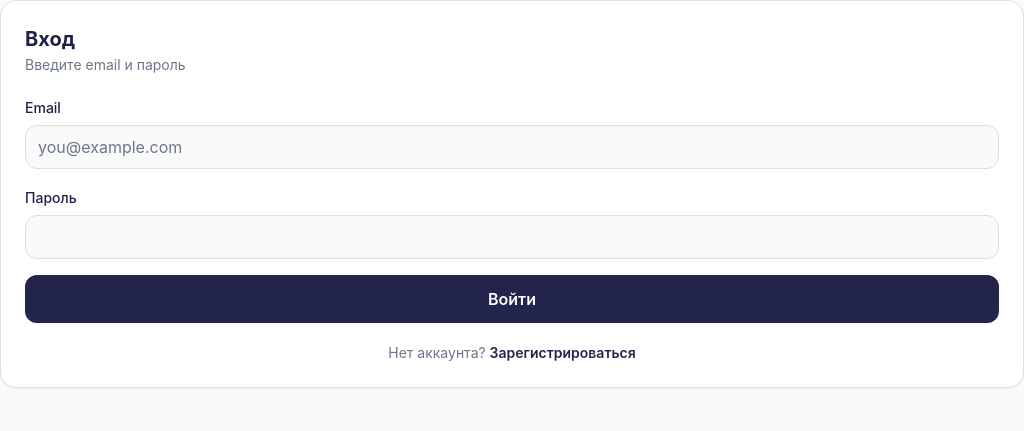
Test case: LoginForm › shows validation when email is invalid
Type "not-an-email" into the field labelled "Email" at (512, 147), box [25,125,999,169]
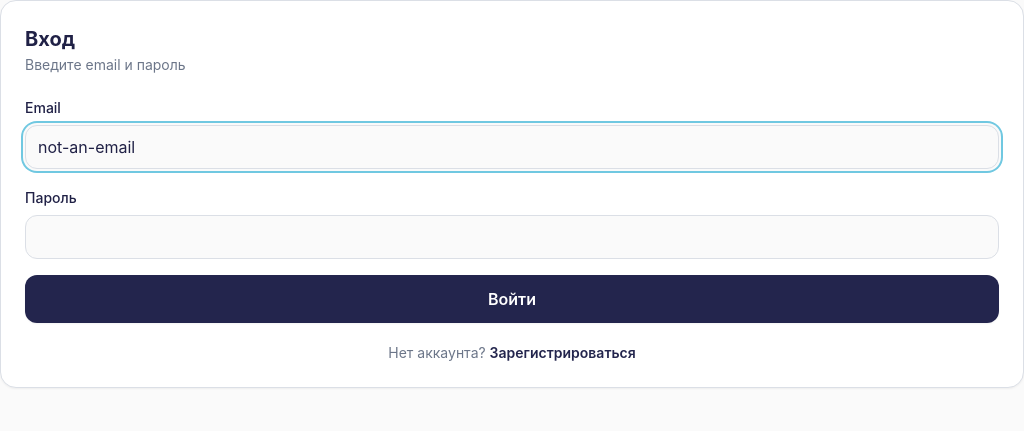
Type "password12" into the password field labelled "Пароль" at (512, 237), box [25,215,999,259]
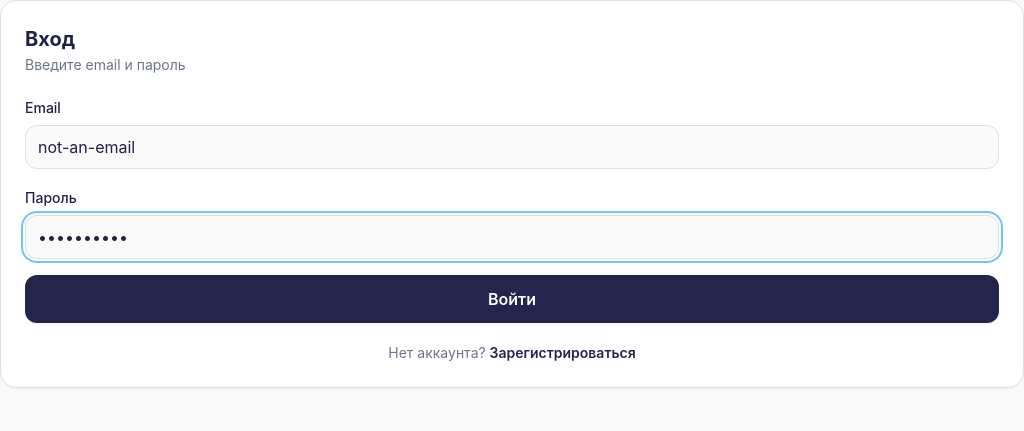
Click the button "Войти" at (512, 299), box [25,275,999,323]
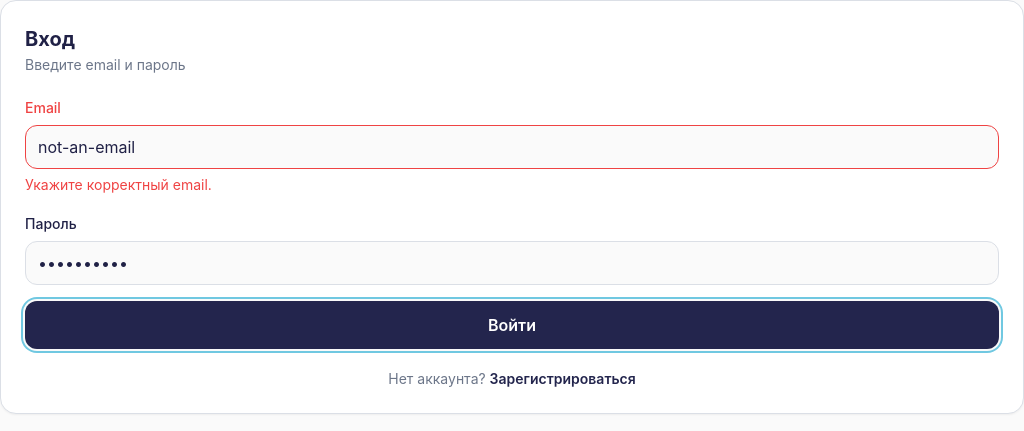
Expected: the message shows "корректный email", [25,176,212,193]
